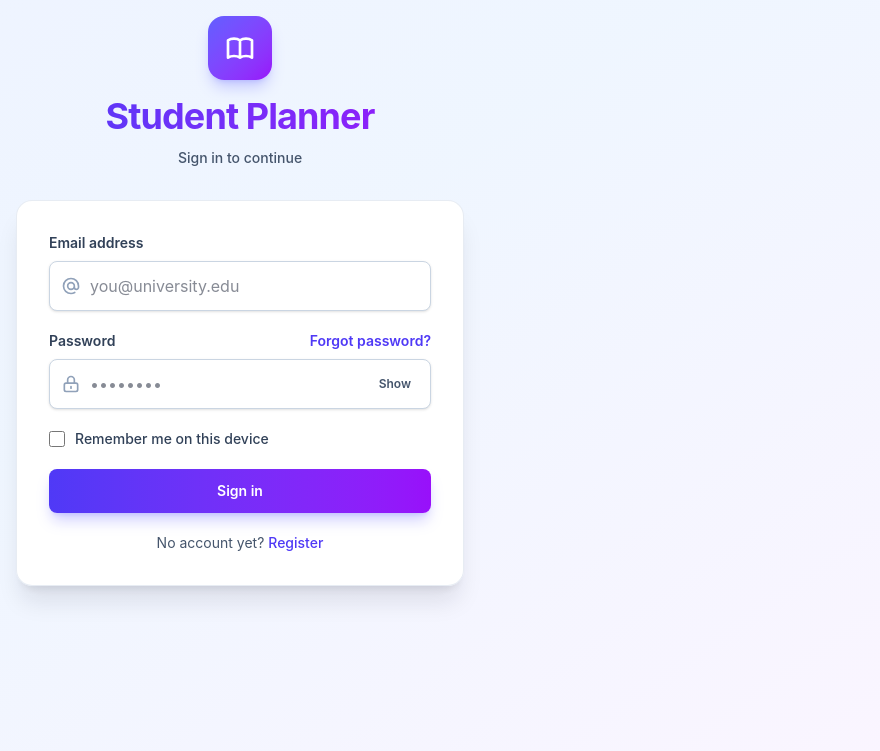
LoginPage › switches to forgot password mode when link is clicked
The image size is (880, 751).
Click the button "Forgot password?".
click(370, 341)  # box [310,331,431,351]
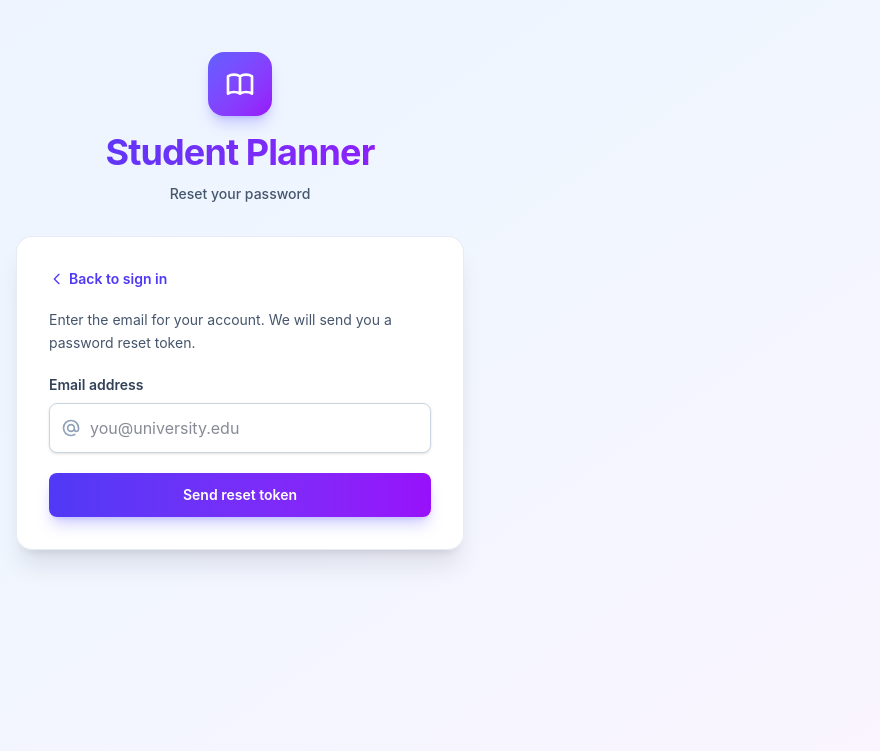
Now the text "Reset your password" is shown, box [170,185,310,202]
Now the button "Send reset token" is shown, box [49,473,431,517]
